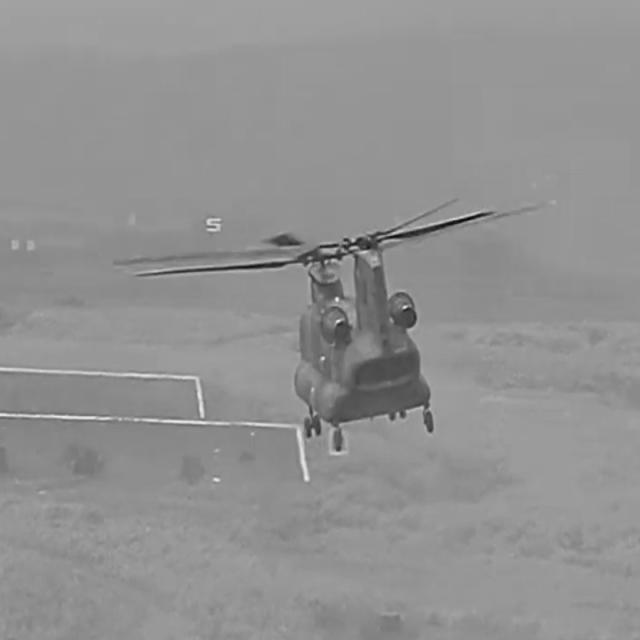Helicopter: (136, 198, 551, 453)
